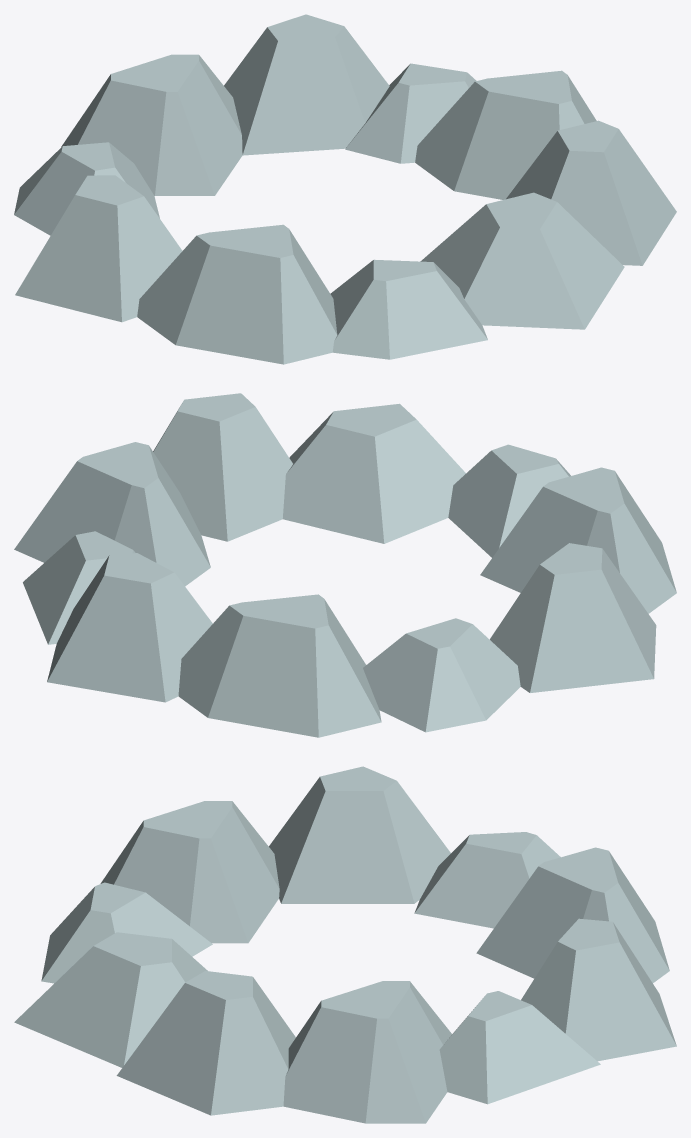
Rendered from campfire_stones.glb.
3 renders of one model, top to bottom at view 1: azimuth 30°, elevation 25°; view 2: azimuth 150°, elevation 25°; view 3: azimuth 270°, elevation 25°, orthographic. The views are drawn at different scales.
Parts seen in each view (by area): view 1: campfire_stones; view 2: campfire_stones; view 3: campfire_stones.
Part boxes in pixels (x1,y1,x2,y2): campfire_stones: [14, 14, 676, 364]; campfire_stones: [14, 393, 676, 737]; campfire_stones: [14, 766, 676, 1123].
Size of the model in its own units: 0.5408 by 0.0778 by 0.5155.
